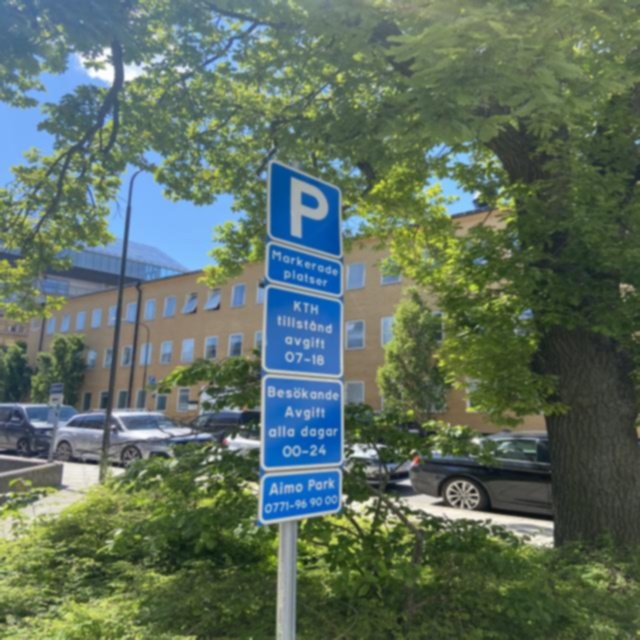P-skylt: (262, 156, 347, 261)
